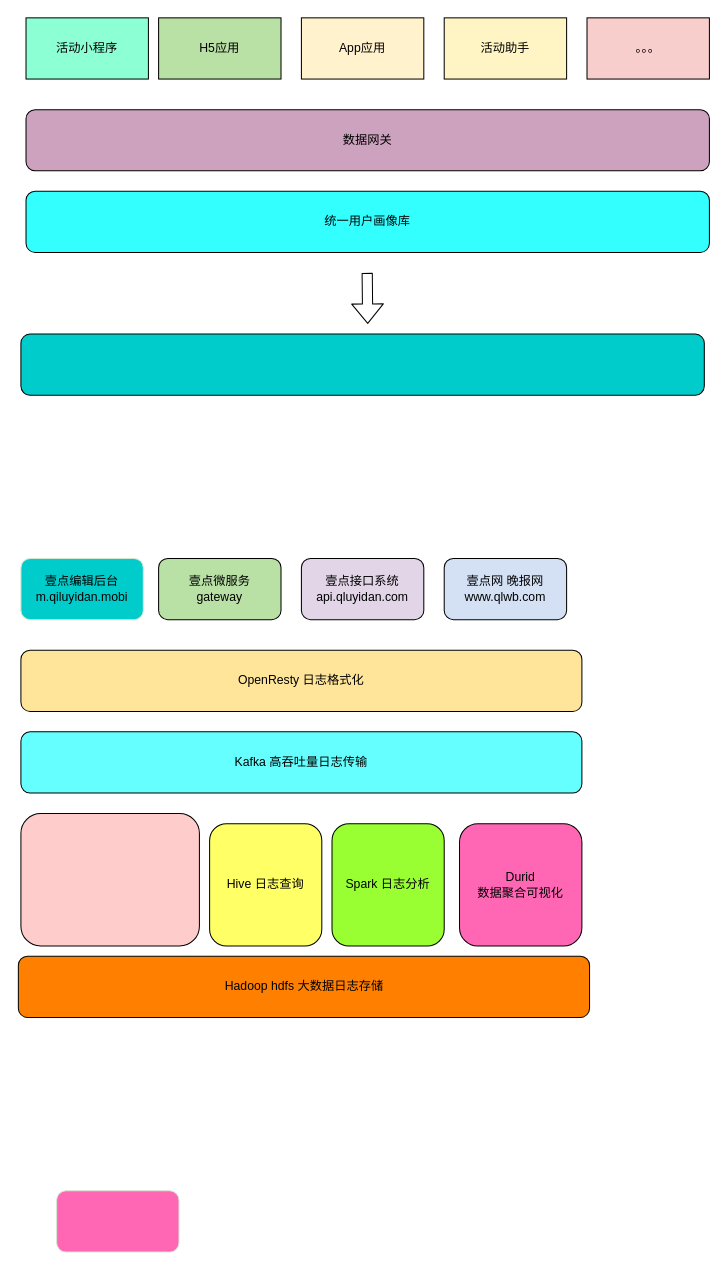
Some shapes in this 727 by 1270 pixel diagram are drawn without their labels. The centre of each missing label's shape, as x and y in pixels:
"Flume-NG 日志落盘" goes at pixel 109 879.
"数据检索" goes at pixel 362 364.
